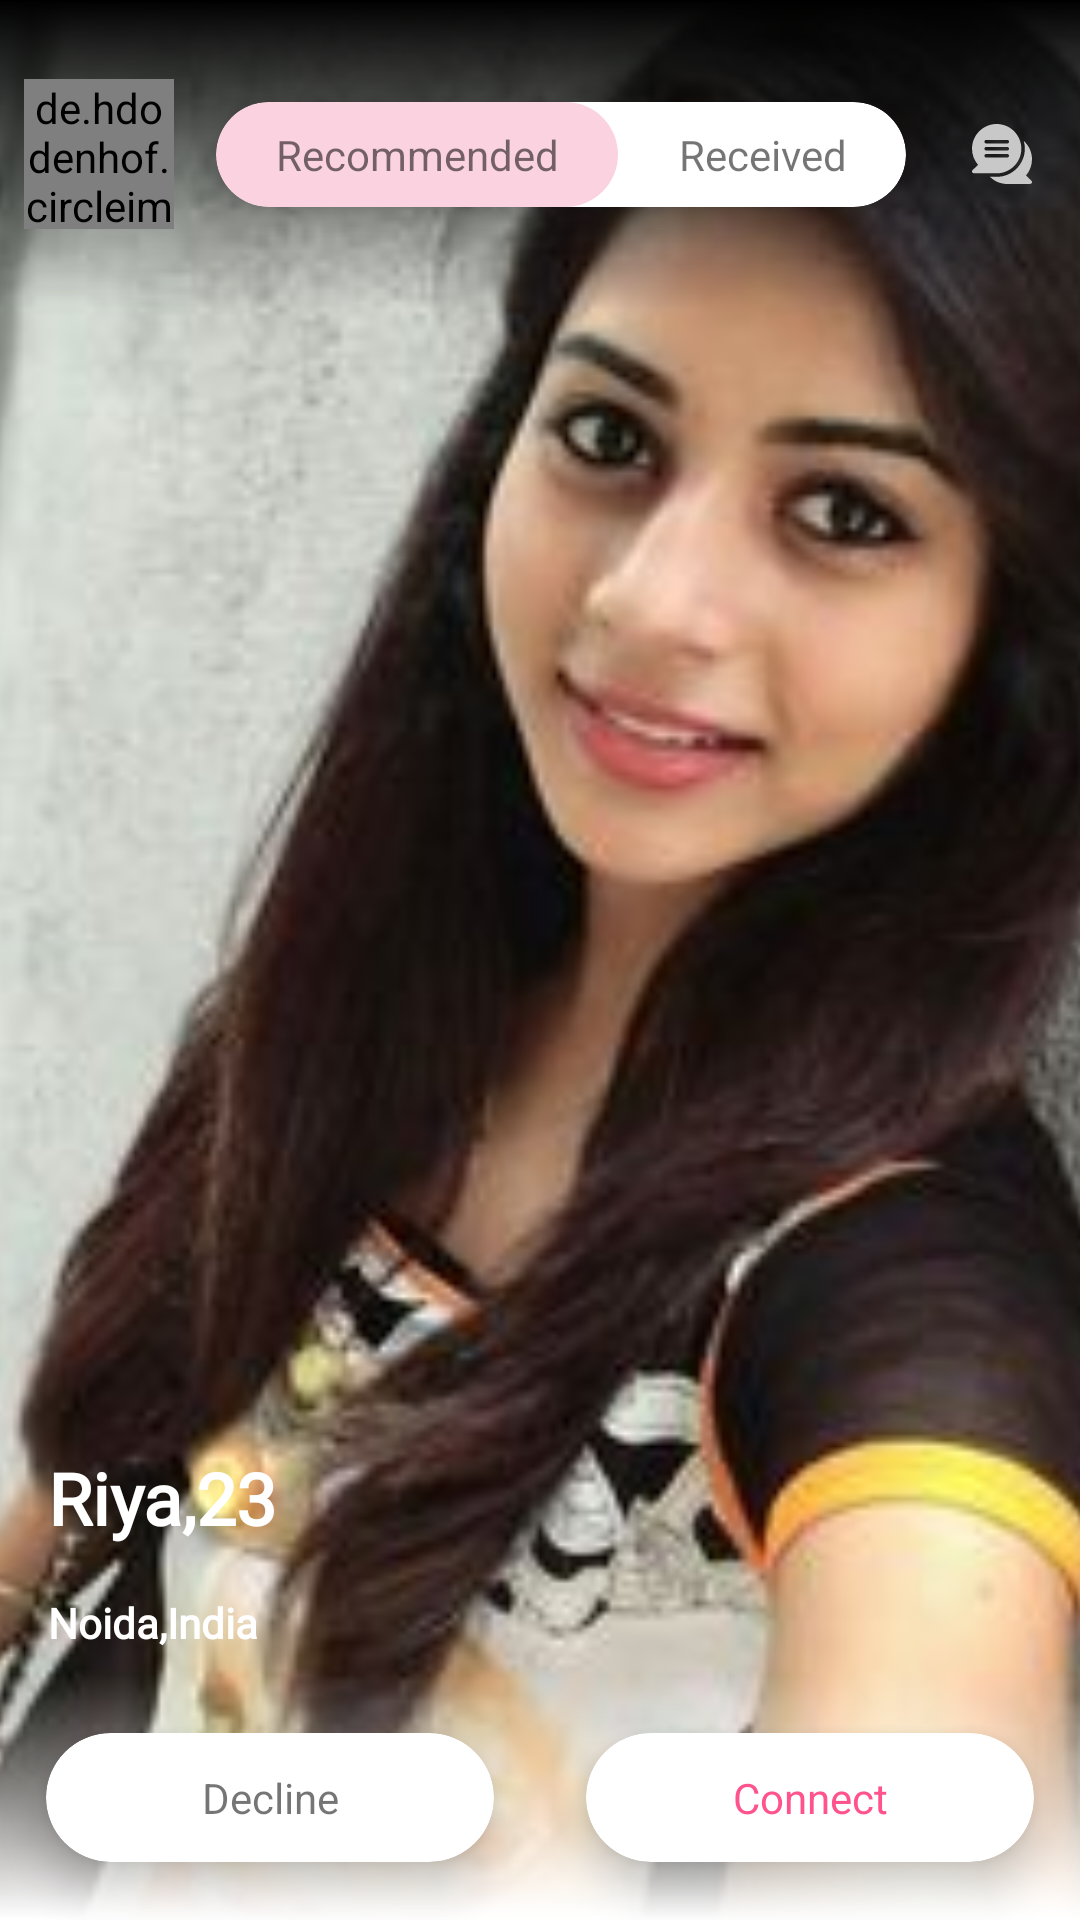

Screen size 1080 × 1920. Icon name, then its box in pixels as (x1, y1, x2, y2):
chat: (972, 124, 1032, 184)
